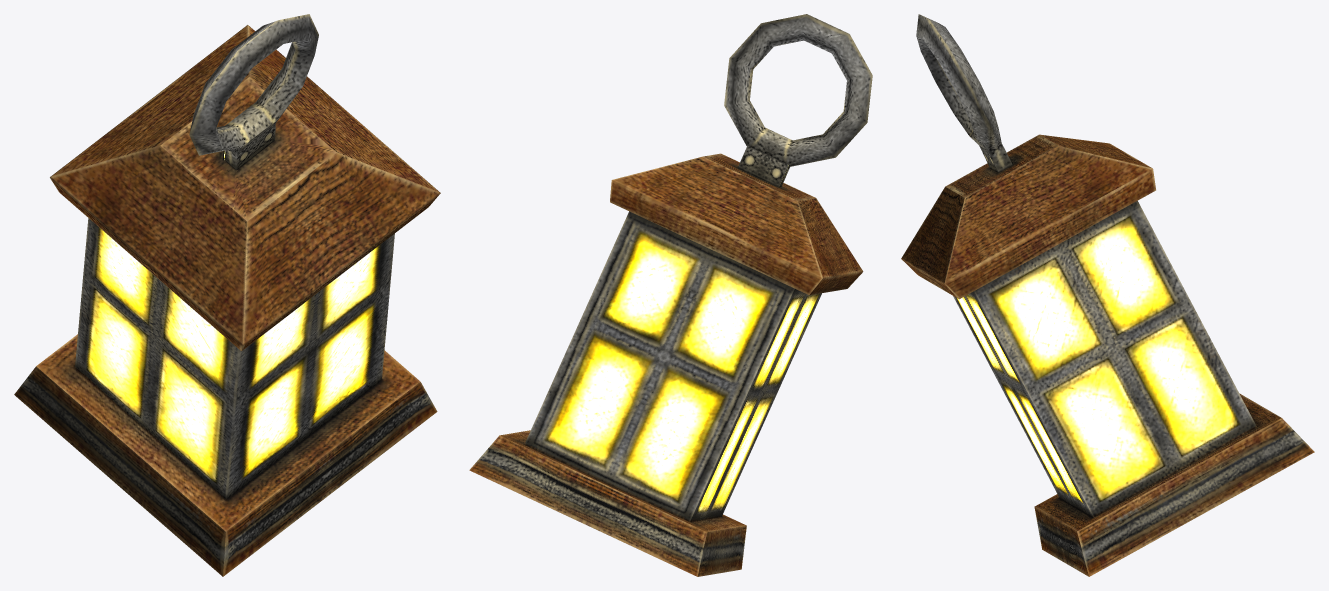
File: HIP_CHIBI_LANTERN.fbx
The picture shows the model from 3 angles, left to right: view 1: azimuth 30°, elevation 25°; view 2: azimuth 150°, elevation 25°; view 3: azimuth 270°, elevation 25°; orthographic projection. The views are drawn at different scales.
Visible parts, largest first — view 1: HIP_CHIBI_LANTERN; view 2: HIP_CHIBI_LANTERN; view 3: HIP_CHIBI_LANTERN.
Part boxes in pixels (x1,y1,x2,y2): HIP_CHIBI_LANTERN: (14,14,440,576); HIP_CHIBI_LANTERN: (469,14,872,576); HIP_CHIBI_LANTERN: (901,14,1314,576).
Size of the model in its own units: 0.0203 by 0.0313 by 0.0223.
